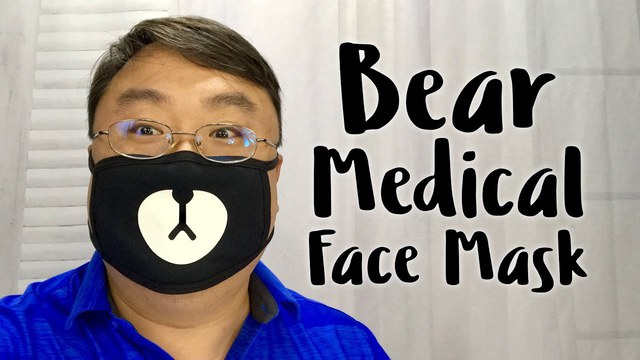mask: (81, 154, 289, 273)
